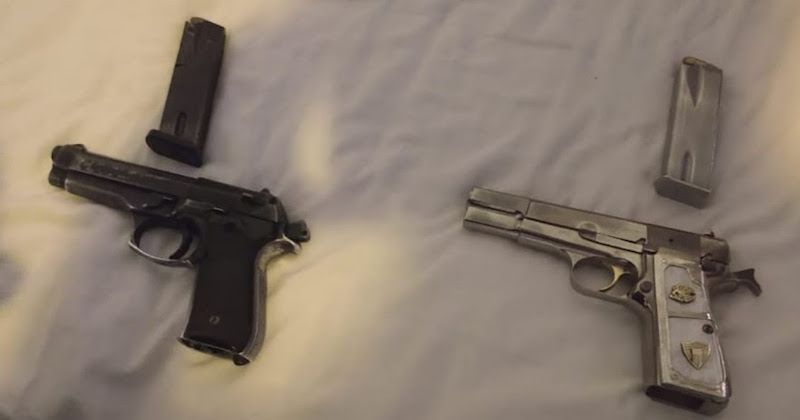Arma Real: (461, 182, 763, 415), (39, 142, 315, 368)
